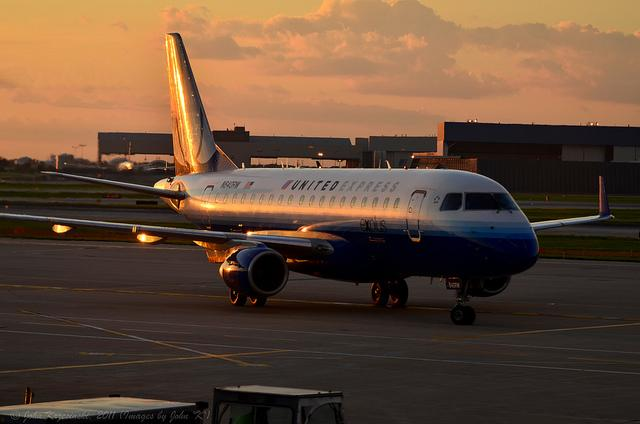airplane: (2, 31, 618, 328)
